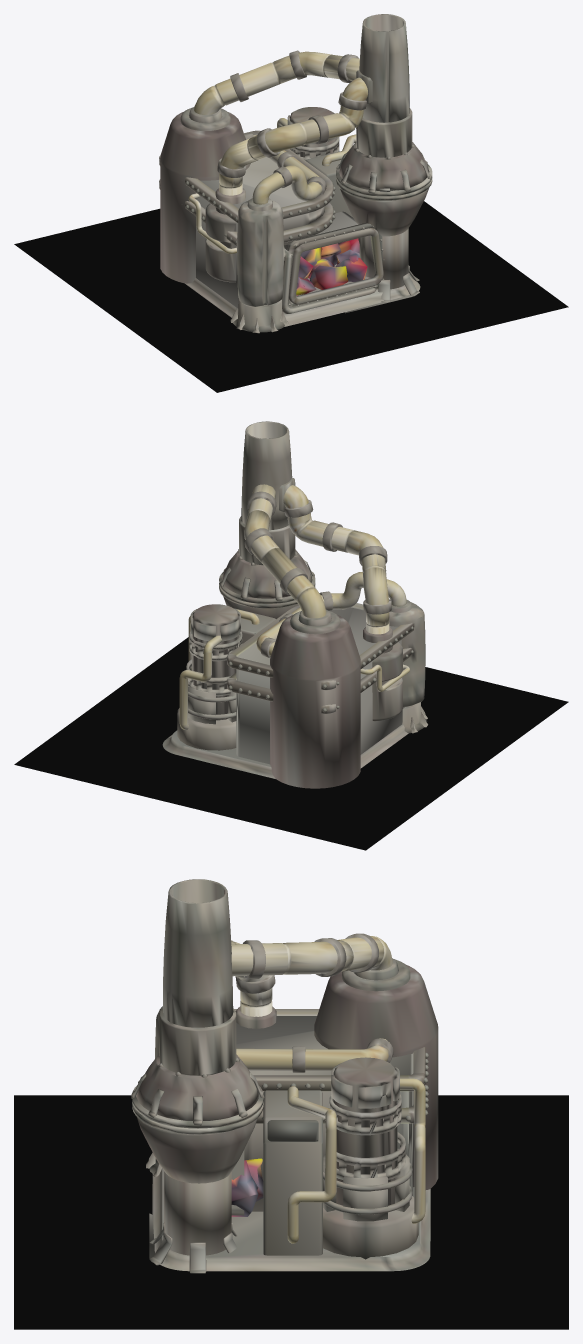
File: steel-furnace.glb
The picture shows the model from 3 angles, top to bottom: view 1: azimuth 30°, elevation 25°; view 2: azimuth 150°, elevation 25°; view 3: azimuth 270°, elevation 25°; orthographic projection. The views are drawn at different scales.
Visible parts, largest first — view 1: modelo; view 2: modelo; view 3: modelo.
Boxes of the visible parts, box(x1,y1,x2,y2) form: modelo: box(14, 14, 568, 392); modelo: box(14, 421, 568, 850); modelo: box(14, 879, 568, 1329).
Size of the model in its own units: 7.55 by 5.78 by 7.55.
